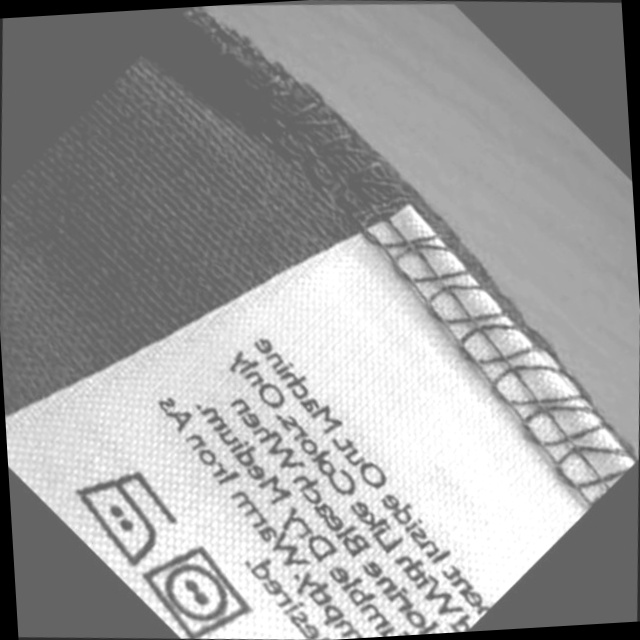iron_medium: (63, 463, 181, 570)
tumble_dry_medium: (134, 541, 255, 640)
